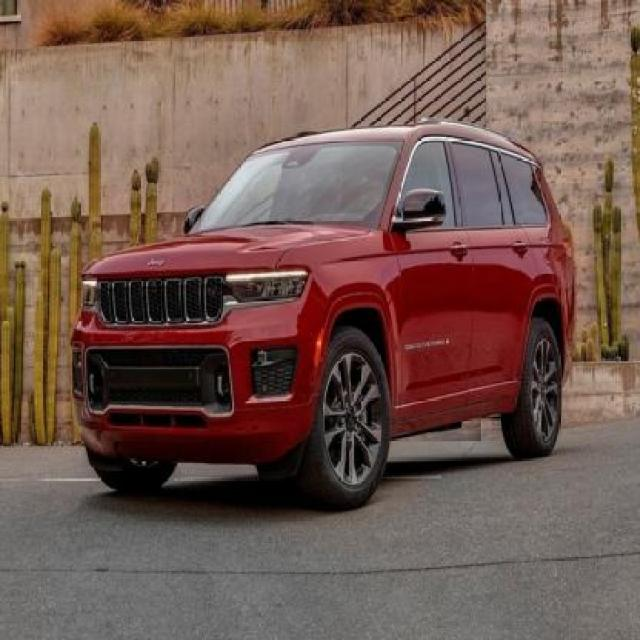Jeep: (71, 121, 577, 510)
